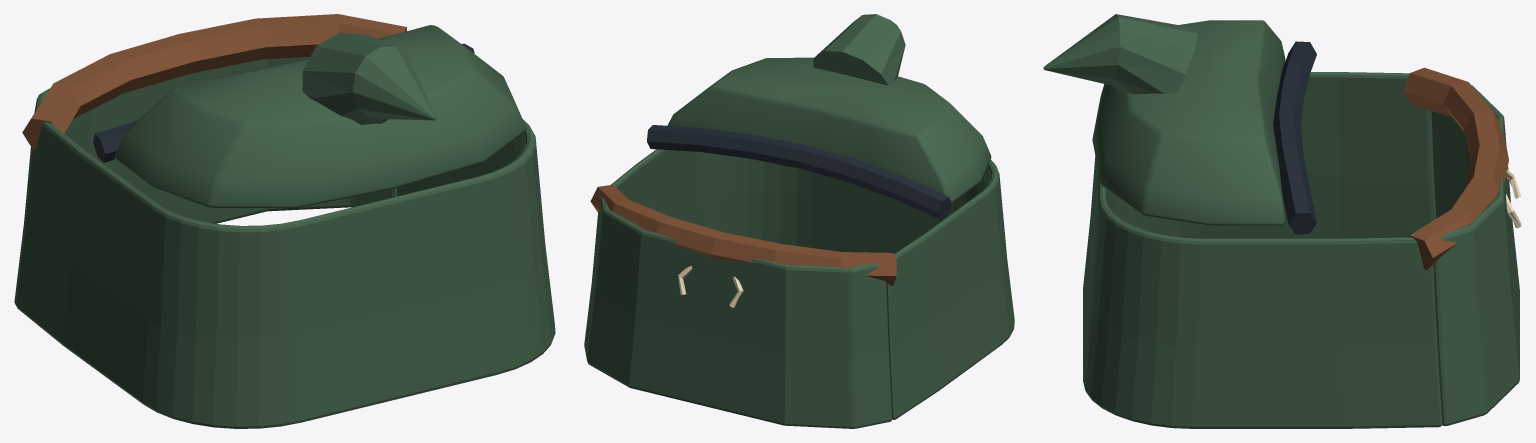
Rendered from hood.fbx.
3 views of the same model, side by side, from view 1: azimuth 30°, elevation 25°; view 2: azimuth 150°, elevation 25°; view 3: azimuth 270°, elevation 25° (orthographic). The views are drawn at different scales.
Parts seen in each view (by area): view 1: hood_armor; view 2: hood_armor; view 3: hood_armor.
Part boxes in pixels (x1=…): hood_armor: x1=14, y1=14, x2=555, y2=428; hood_armor: x1=584, y1=14, x2=1014, y2=428; hood_armor: x1=1043, y1=14, x2=1521, y2=428.
Bounding box in the file's own units: 4.2 × 3.44 × 4.63.
1 material, 1 textured.
